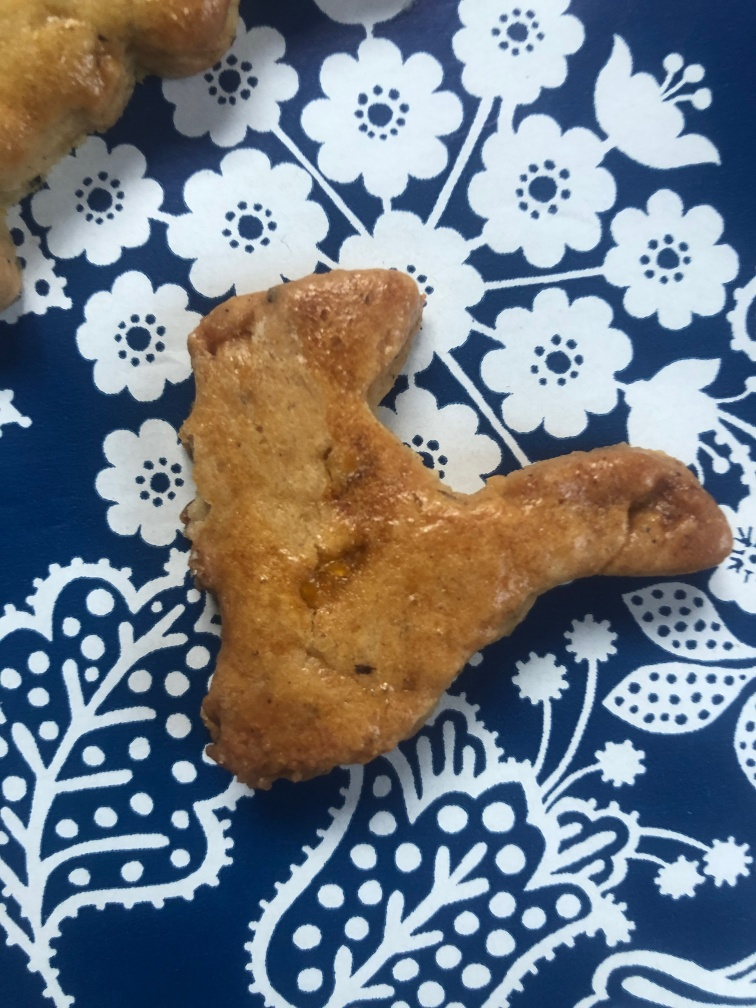squirrel: (177, 253, 741, 793)
